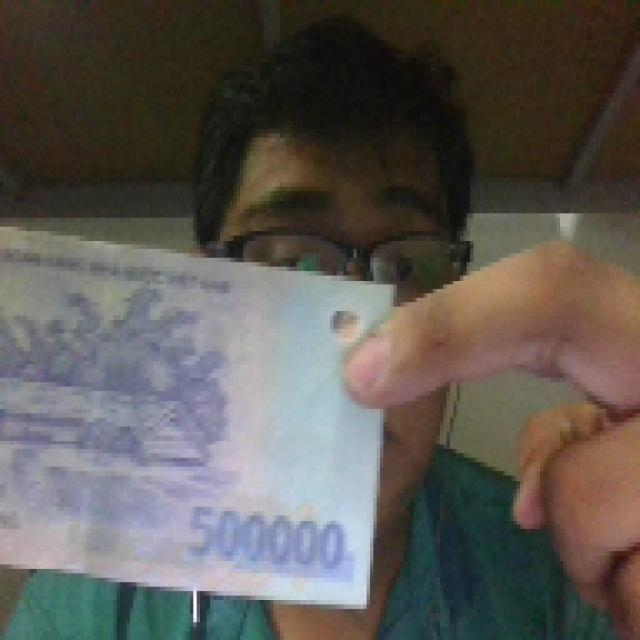500 000 VND: (0, 218, 400, 613)
